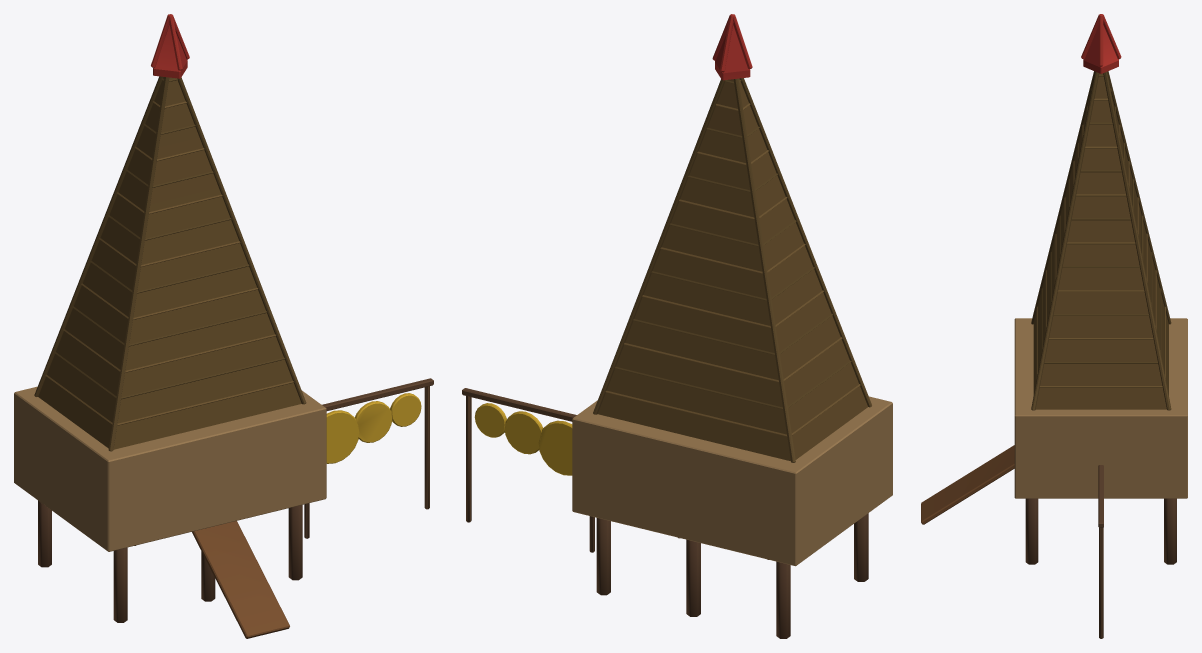
File: lm-s2-taynguyen.glb
3 renders of one model, left to right at view 1: azimuth 30°, elevation 25°; view 2: azimuth 150°, elevation 25°; view 3: azimuth 270°, elevation 25°, orthographic. The views are drawn at different scales.
Bounding box in the file's own units: 6.8 × 9.73 × 4.62.
